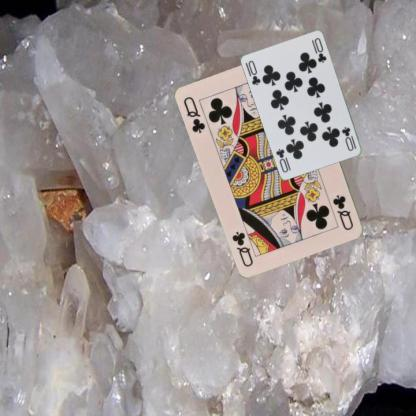10c: (339, 124, 358, 153), (246, 58, 262, 86)
Qc: (181, 94, 207, 135), (330, 192, 355, 232)
